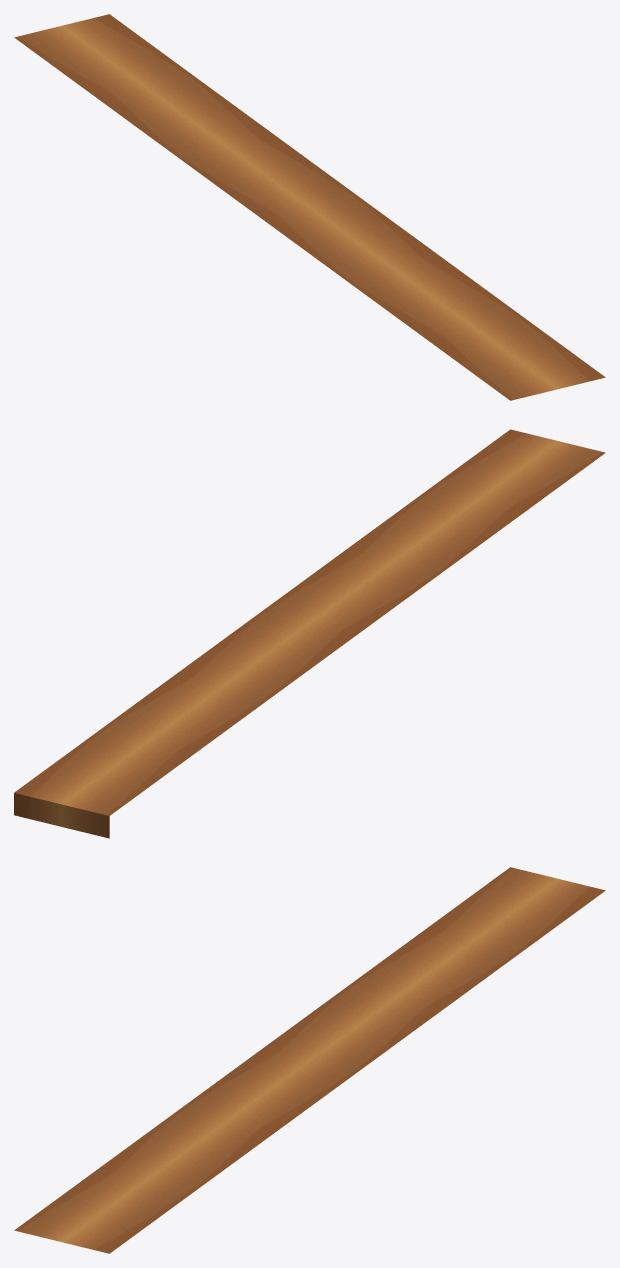
File: 1.100_SanFrancisco_ground.glb
3 renders of one model, top to bottom at view 1: azimuth 30°, elevation 25°; view 2: azimuth 150°, elevation 25°; view 3: azimuth 330°, elevation 25°, orthographic.
Visible parts, largest first — view 1: 1.100_SanFrancisco_ground; view 2: 1.100_SanFrancisco_ground; view 3: 1.100_SanFrancisco_ground.
Part boxes in pixels (x1,y1,x2,y2): 1.100_SanFrancisco_ground: (14, 14, 605, 400); 1.100_SanFrancisco_ground: (14, 429, 605, 838); 1.100_SanFrancisco_ground: (14, 867, 605, 1253).
Bounding box in the file's own units: 20 × 4.5 × 180.
Materials: 1 (1 with a texture image).
